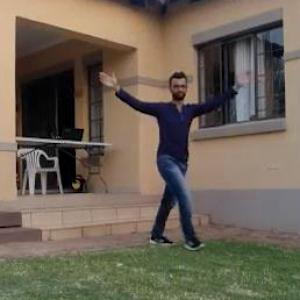takeoff: (92, 70, 252, 251)
